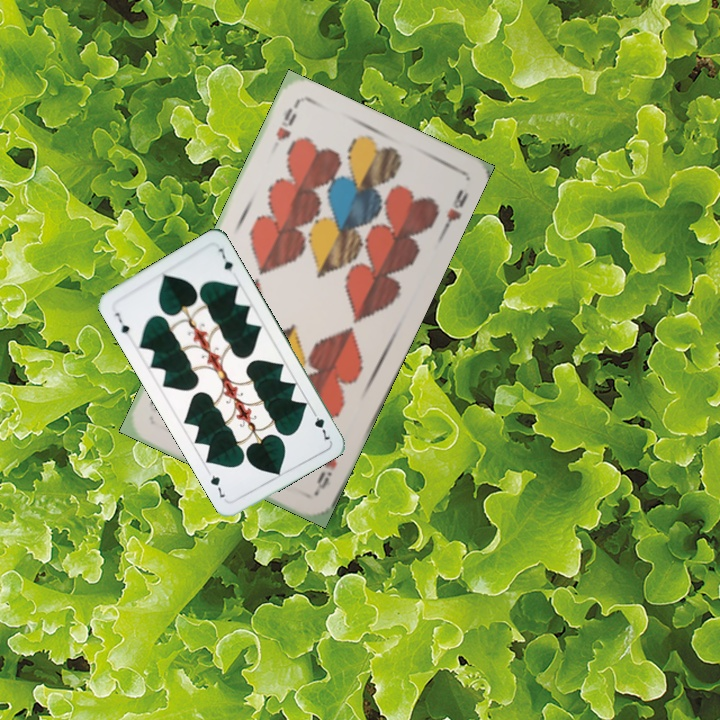G7: (308, 405, 333, 444), (111, 308, 132, 337)
H9: (310, 452, 340, 496), (272, 100, 301, 144)
